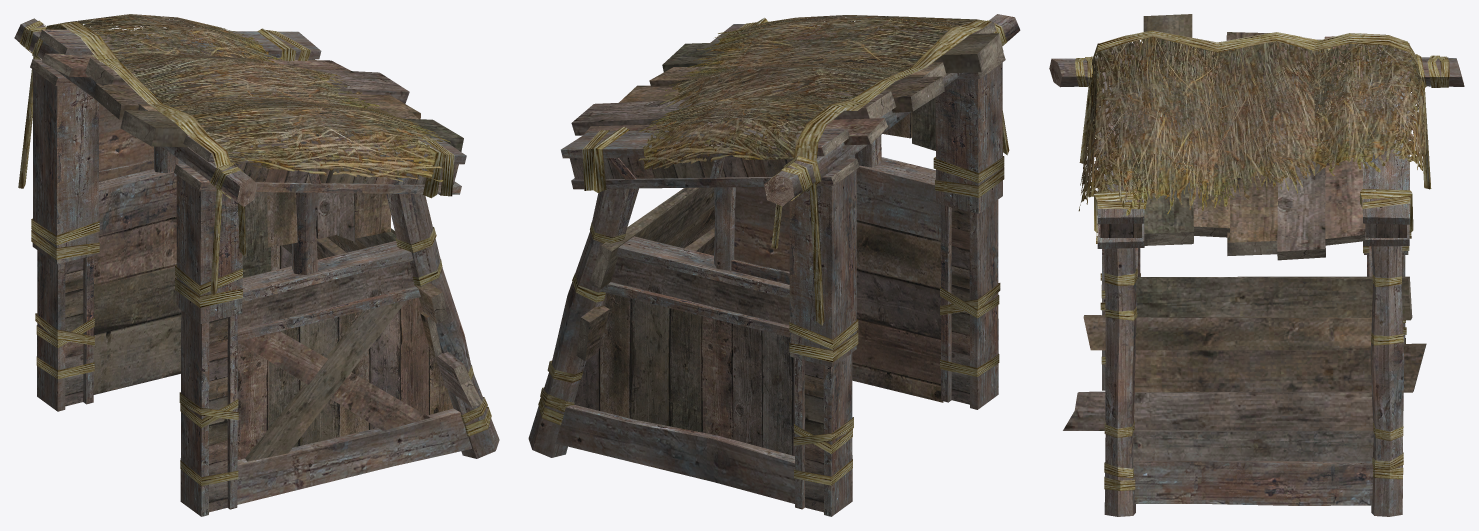
The model's file is bg_anh_etc_sb03_sm_old.FBX.
3 views of the same model, side by side, from view 1: azimuth 30°, elevation 25°; view 2: azimuth 150°, elevation 25°; view 3: azimuth 270°, elevation 25° (orthographic). The views are drawn at different scales.
Visible parts, largest first — view 1: bg_anh_etc_sb03_sm_old; view 2: bg_anh_etc_sb03_sm_old; view 3: bg_anh_etc_sb03_sm_old.
Boxes of the visible parts, left/top/right/bottom form: bg_anh_etc_sb03_sm_old: left=14, top=14, right=499, bottom=516; bg_anh_etc_sb03_sm_old: left=528, top=14, right=1020, bottom=516; bg_anh_etc_sb03_sm_old: left=1049, top=14, right=1464, bottom=516.
Bounding box in the file's own units: 164 × 181 × 189.
